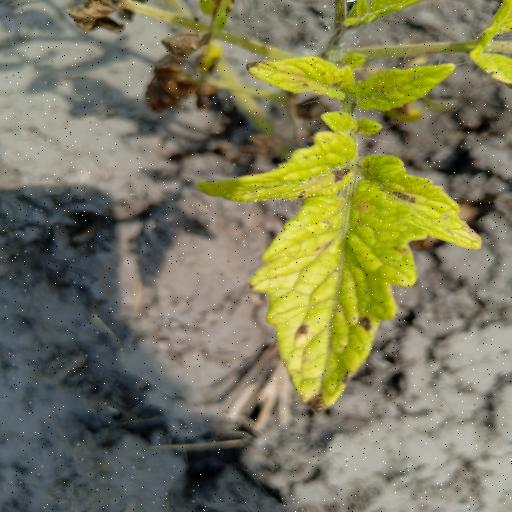Tomato_Brown_Spots: (199, 107, 484, 422)
